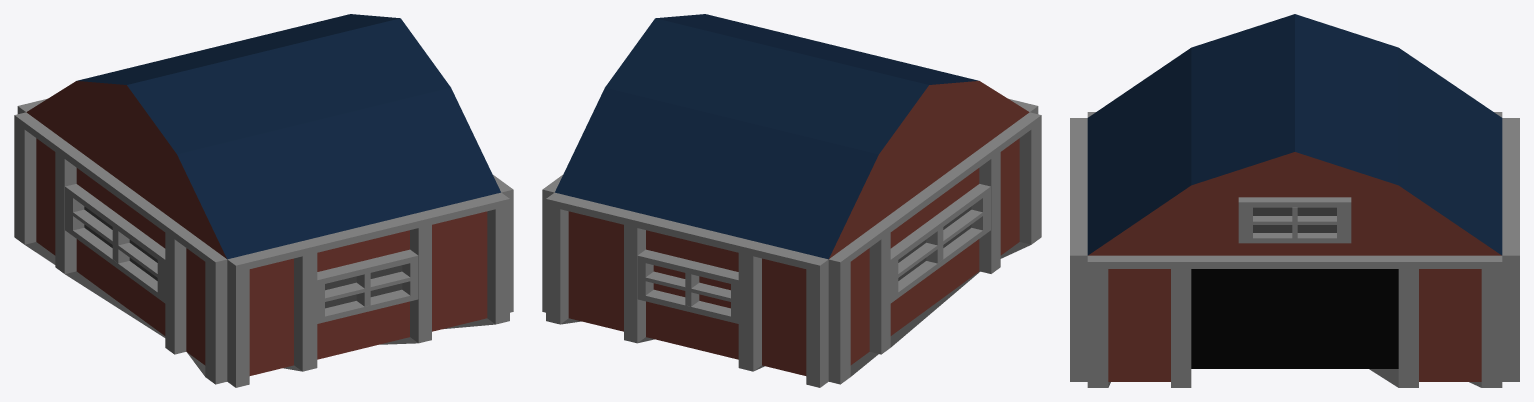
The model's file is Barn.fbx.
3 renders of one model, left to right at view 1: azimuth 30°, elevation 25°; view 2: azimuth 150°, elevation 25°; view 3: azimuth 270°, elevation 25°, orthographic. The views are drawn at different scales.
Visible parts, largest first — view 1: pCube1; view 2: pCube1; view 3: pCube1.
Part boxes in pixels (x1,y1,x2,y2): pCube1: (14, 14, 513, 387); pCube1: (542, 14, 1041, 387); pCube1: (1070, 14, 1519, 387).
Bounding box in the file's own units: 54.81 × 39.2 × 69.5.
